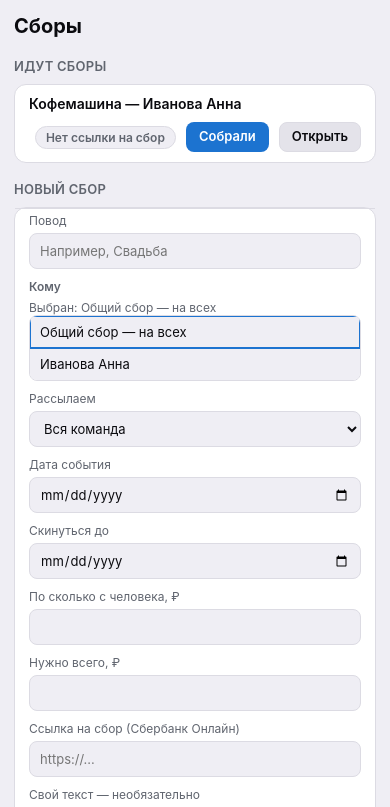
Test: PersonPicker подключён к экрану «Сборы» › замороженный повод (команда уже прочитала, на что скидывается) блокирует и выбор человека
Click the button "Открыть".
click(320, 137)  # box [279,122,361,152]
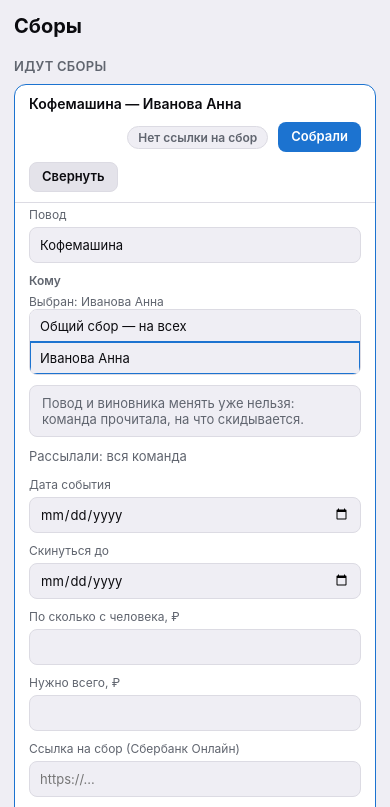
Expected: the button "Общий сбор — на всех" is disabled, [30,310,360,342]
Expected: the button "Иванова Анна" is disabled, [30,342,360,374]
